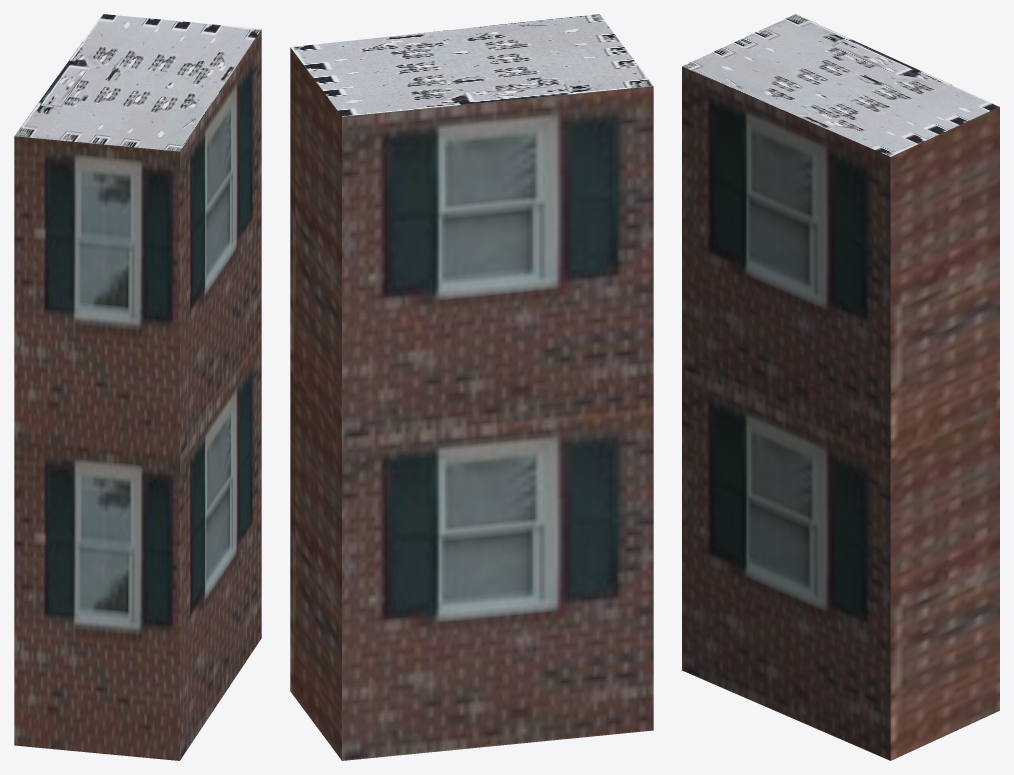
Rendered from ResTex__1320.fbx.
3 renders of one model, left to right at view 1: azimuth 30°, elevation 25°; view 2: azimuth 150°, elevation 25°; view 3: azimuth 270°, elevation 25°, orthographic. The views are drawn at different scales.
Visible parts, largest first — view 1: CityEngineMaterial_14_m, CityEngineMaterial_4_m; view 2: CityEngineMaterial_14_m, CityEngineMaterial_4_m; view 3: CityEngineMaterial_14_m, CityEngineMaterial_4_m.
Boxes of the visible parts, x1,y1,x2,y2 form: CityEngineMaterial_14_m: [14, 29, 261, 760]; CityEngineMaterial_4_m: [14, 14, 261, 151]; CityEngineMaterial_14_m: [290, 47, 653, 760]; CityEngineMaterial_4_m: [290, 14, 653, 116]; CityEngineMaterial_14_m: [682, 66, 999, 760]; CityEngineMaterial_4_m: [682, 14, 999, 156].
Size of the model in its own units: 3.04 by 6 by 2.86.
2 materials, 2 textured.
